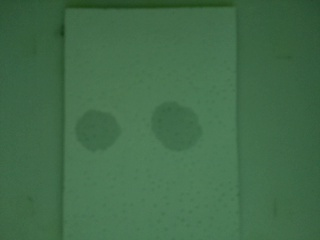Water_detected: (154, 102, 201, 143), (77, 120, 114, 146)
